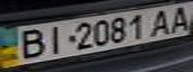0: (90, 17, 112, 47)
1: (124, 11, 151, 40)
2: (72, 19, 96, 51)
8: (109, 14, 130, 45)
A: (145, 7, 178, 37), (163, 3, 193, 34)
B: (12, 26, 51, 60)
I: (39, 24, 69, 55)
